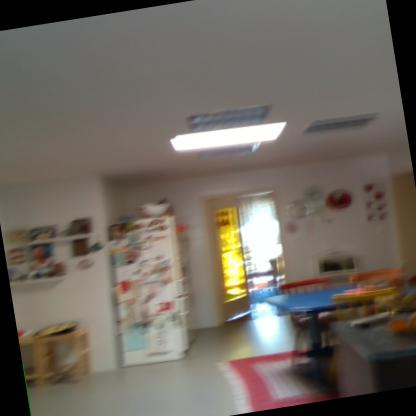semi: (190, 179, 301, 332)
